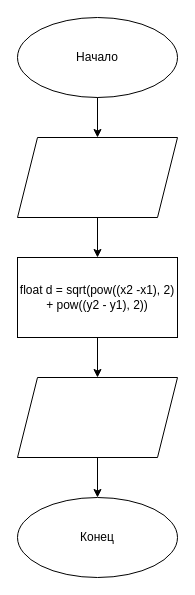
Some shapes in this 195 by 595 pixel diagram are drawn without their labels. Each missing label, with the box of its shape:
Ввод x1, y1, x2, y2: (16, 136, 178, 218)
Вывод d: (16, 376, 178, 458)
